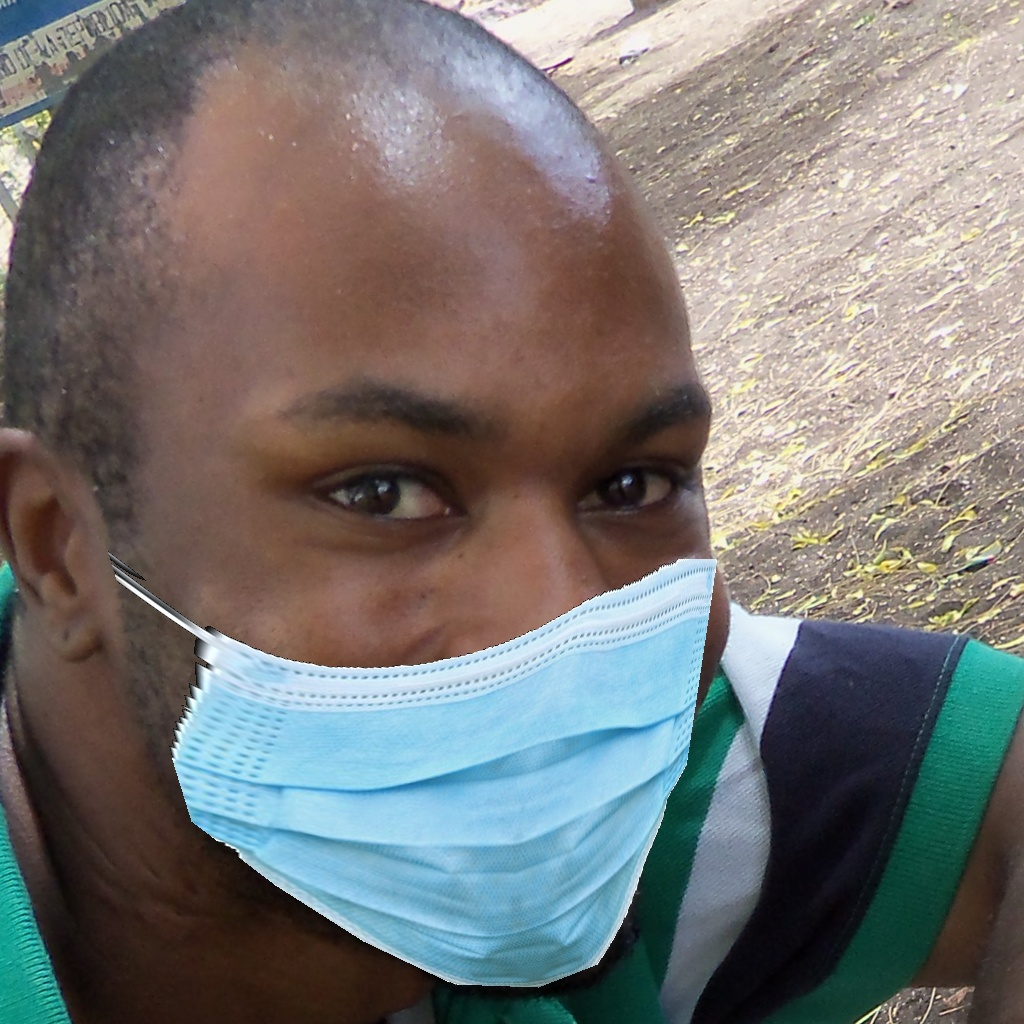Mask: (114, 325, 717, 990)
